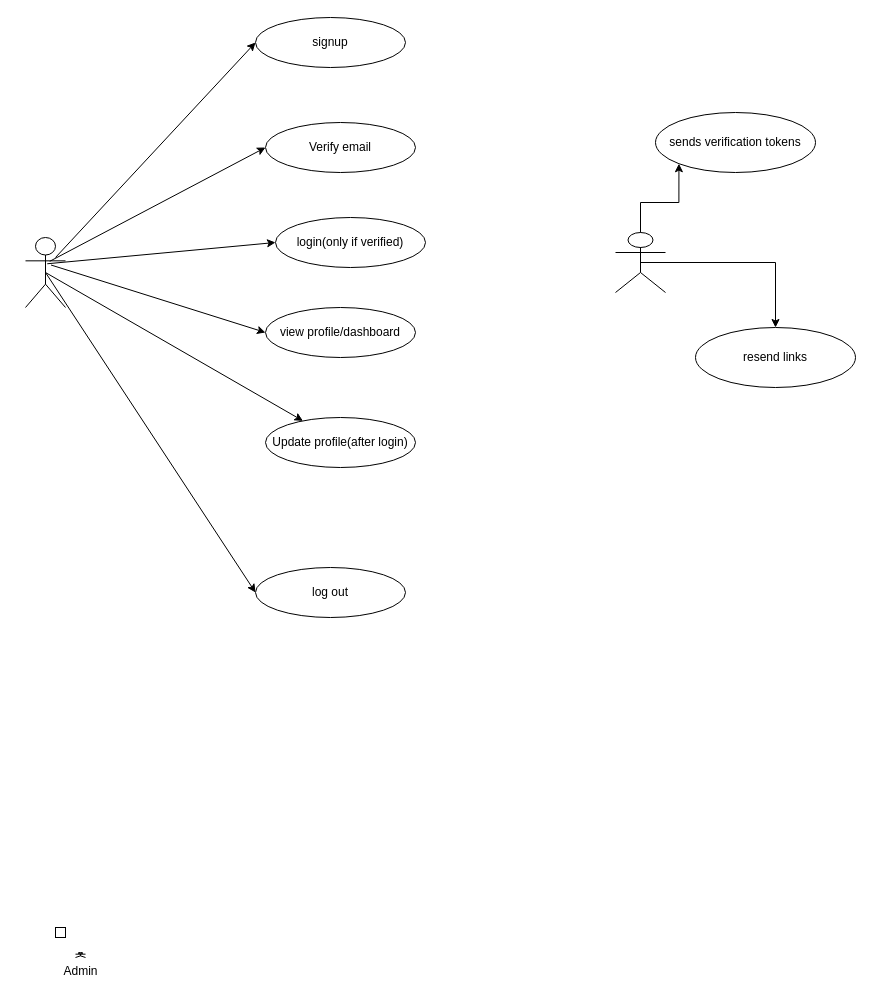
This 873x996 diagram has some shape labels left out. Each missing label, with the centre of its shape:
"EmailServices" goes at point (640, 262).
"TalentUser" goes at point (45, 272).
